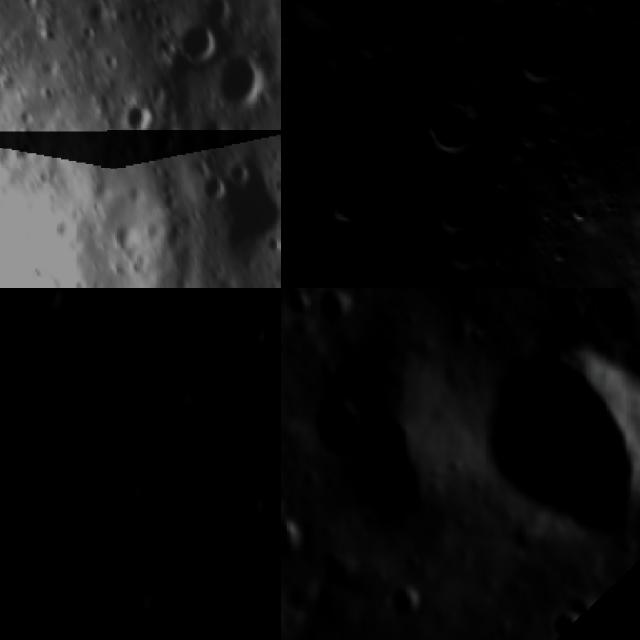crater: (472, 336, 640, 547), (344, 365, 437, 521), (406, 77, 501, 173), (425, 11, 513, 99), (28, 522, 107, 612), (216, 164, 281, 257), (414, 176, 491, 253), (205, 43, 281, 112), (307, 388, 372, 454), (504, 32, 569, 97), (317, 174, 381, 238), (305, 14, 366, 76), (291, 0, 375, 37), (174, 17, 225, 71), (115, 92, 163, 140), (324, 258, 395, 288), (392, 580, 432, 629), (326, 546, 366, 595), (542, 605, 595, 640), (190, 331, 232, 371), (314, 288, 361, 323), (215, 603, 259, 640), (281, 508, 307, 567), (550, 295, 594, 328), (234, 481, 268, 522), (224, 154, 261, 191), (196, 170, 232, 207), (22, 288, 73, 313), (468, 0, 535, 19), (166, 379, 200, 416), (281, 0, 308, 43), (80, 288, 157, 302), (287, 288, 320, 319), (200, 0, 238, 25), (244, 318, 270, 345), (464, 324, 494, 346), (618, 288, 640, 317), (564, 288, 589, 301), (180, 288, 218, 295)
